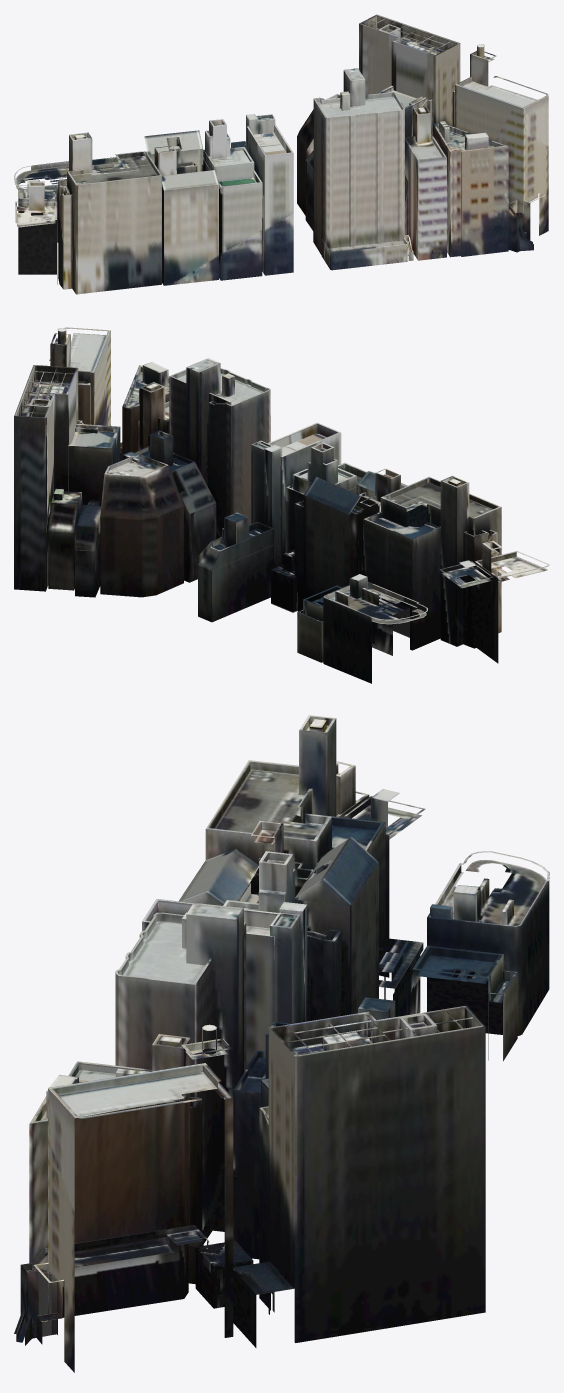
File: asset.gltf
3 views of the same model, one above another, from view 1: azimuth 30°, elevation 25°; view 2: azimuth 150°, elevation 25°; view 3: azimuth 270°, elevation 25° (orthographic). The views are drawn at different scales.
Parts seen in each view (by area): view 1: surfaceMember.999 (×18), surfaceMember.152, surfaceMember.784, surfaceMember.45, surfaceMember.808, surfaceMember.941, surfaceMember.809, surfaceMember.306, surfaceMember.384, surfaceMember.562, surfaceMember.382, surfaceMember.379 (+24 smaller); view 2: surfaceMember.999 (×6), surfaceMember.381, surfaceMember.761, surfaceMember.729, surfaceMember.640, surfaceMember.135, surfaceMember.244, surfaceMember.133, surfaceMember.166, surfaceMember.731, surfaceMember.392, surfaceMember.329 (+50 smaller); view 3: surfaceMember.380, surfaceMember.785, surfaceMember.999 (×4), surfaceMember.964, surfaceMember.379, surfaceMember.809, surfaceMember.637, surfaceMember.584, surfaceMember.198, surfaceMember.761, surfaceMember.868, surfaceMember.942 (+29 smaller).
Part boxes in pixels (<box>): surfaceMember.999 (×18): <box>158,99,407,285</box>; surfaceMember.152: <box>76,175,161,294</box>; surfaceMember.784: <box>461,146,508,256</box>; surfaceMember.45: <box>220,182,262,280</box>; surfaceMember.808: <box>455,85,523,215</box>; surfaceMember.941: <box>265,153,293,275</box>; surfaceMember.809: <box>523,96,548,235</box>; surfaceMember.306: <box>418,157,446,260</box>; surfaceMember.384: <box>391,41,435,123</box>; surfaceMember.562: <box>18,199,56,274</box>; surfaceMember.382: <box>359,23,398,94</box>; surfaceMember.379: <box>435,43,460,126</box>; surfaceMember.999 (×6): <box>48,373,377,590</box>; surfaceMember.381: <box>14,416,45,591</box>; surfaceMember.761: <box>303,495,349,614</box>; surfaceMember.729: <box>100,517,141,597</box>; surfaceMember.640: <box>324,598,371,683</box>; surfaceMember.135: <box>363,519,412,650</box>; surfaceMember.244: <box>212,544,273,622</box>; surfaceMember.133: <box>412,527,440,650</box>; surfaceMember.166: <box>440,481,456,646</box>; surfaceMember.731: <box>156,506,183,595</box>; surfaceMember.392: <box>68,445,111,505</box>; surfaceMember.329: <box>474,562,498,663</box>; surfaceMember.380: <box>295,1026,485,1342</box>; surfaceMember.785: <box>29,1100,184,1317</box>; surfaceMember.999 (×4): <box>118,849,258,1243</box>; surfaceMember.964: <box>186,914,236,1231</box>; surfaceMember.379: <box>268,1028,295,1342</box>; surfaceMember.809: <box>48,1088,74,1372</box>; surfaceMember.637: <box>427,917,514,1034</box>; surfaceMember.584: <box>233,1090,260,1259</box>; surfaceMember.198: <box>214,769,323,839</box>; surfaceMember.761: <box>350,863,378,1014</box>; surfaceMember.868: <box>59,1072,217,1118</box>; surfaceMember.942: <box>142,921,273,1067</box>.
Bounding box in the file's own units: 1.26 × 0.4179 × 0.6408.
Materials: 20 (20 with a texture image).
